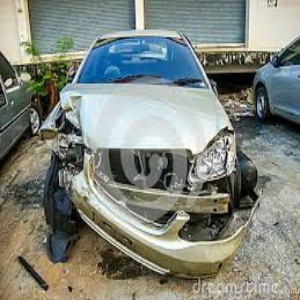bonnet: (57, 85, 215, 151)
bumper: (59, 164, 253, 280)
